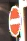No entry: (6, 6, 21, 35)
